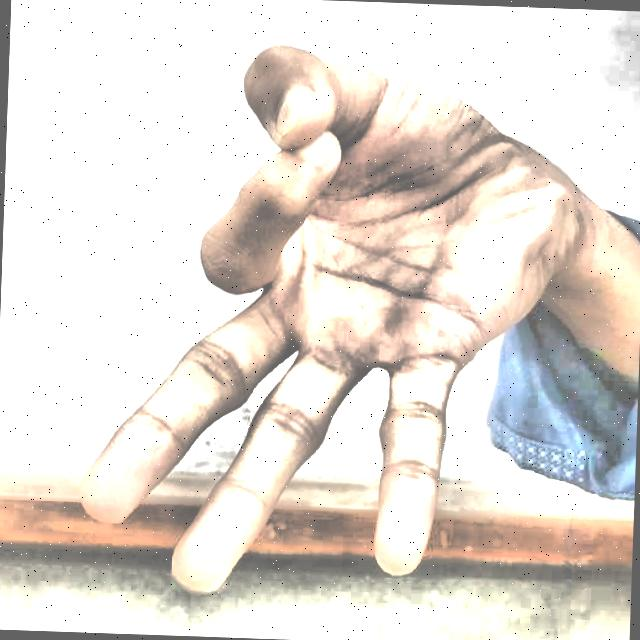Fa: (40, 21, 588, 624)
